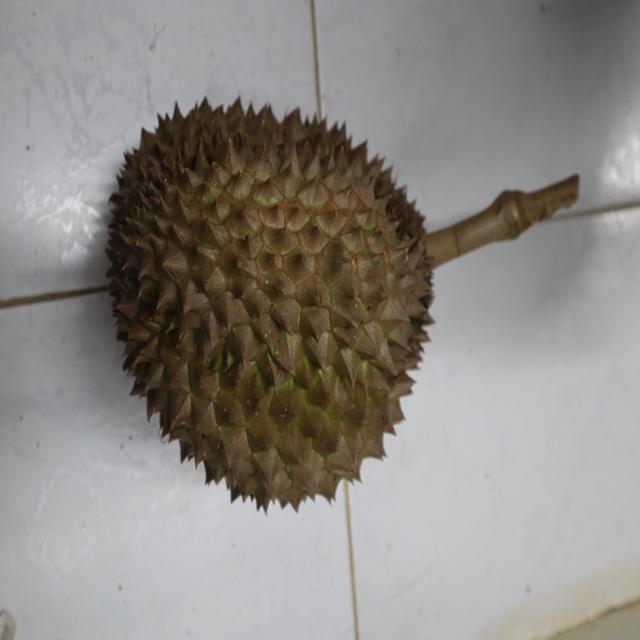mature: (106, 95, 440, 501)
